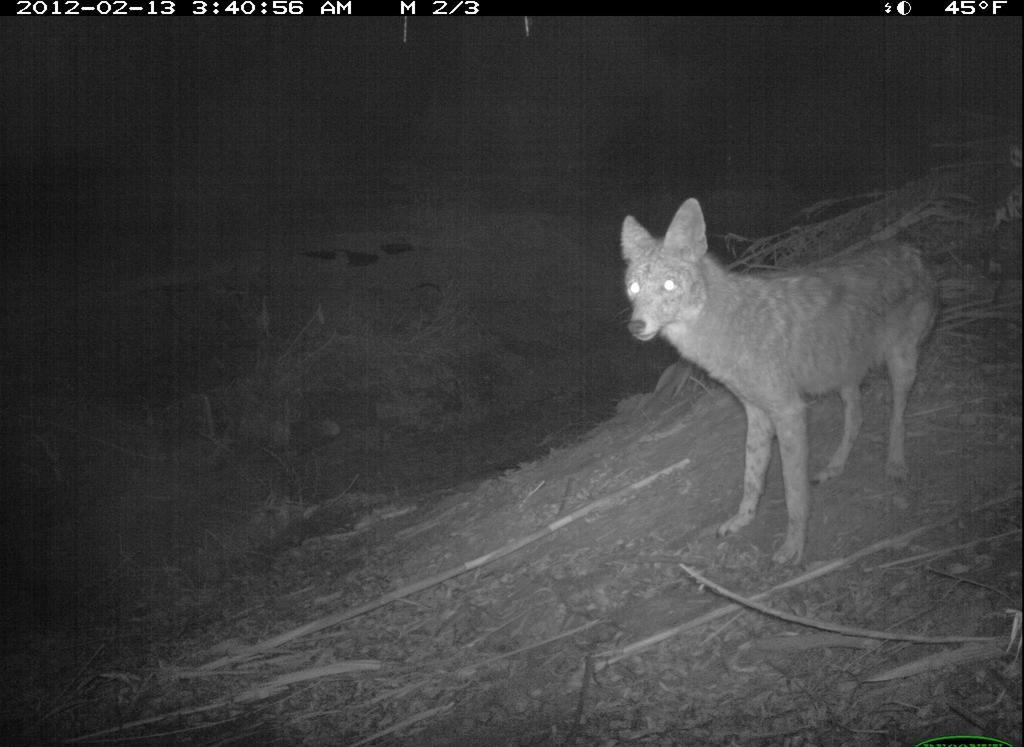coyote: (598, 181, 941, 568)
